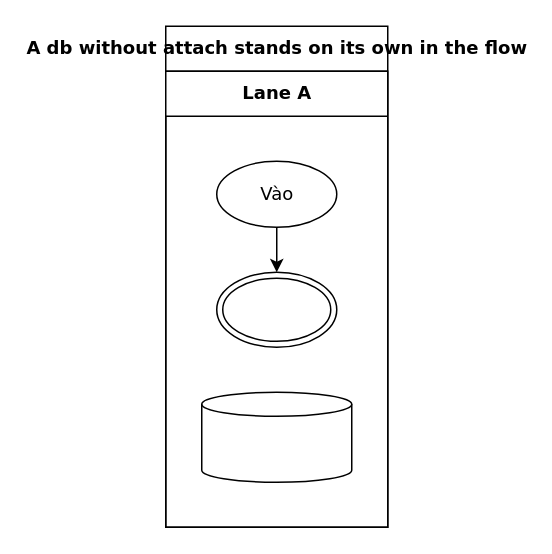
Some shapes in this 552 by 554 pixel diagram are drawn without their labels. Here are the shapes that lost their labels. From the top down, the centre of each, then its label:
At (x=276, y=309): "Xong".
At (x=276, y=436): "DB.ORDER".
